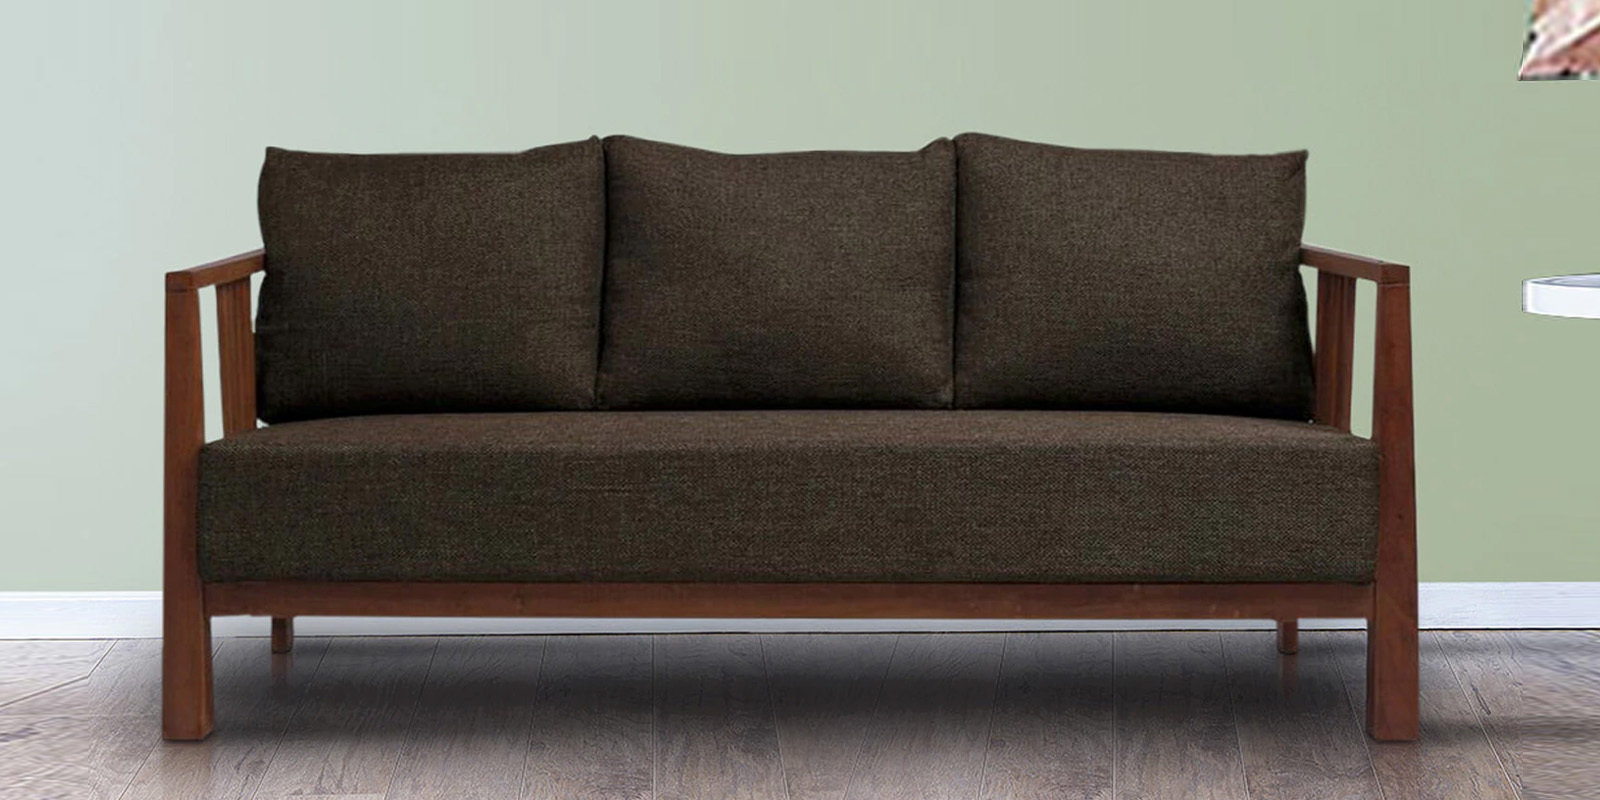Dijon Three Seater Sofa in Dark Brown Colour by Auspicious Home: (137, 126, 1450, 755)
